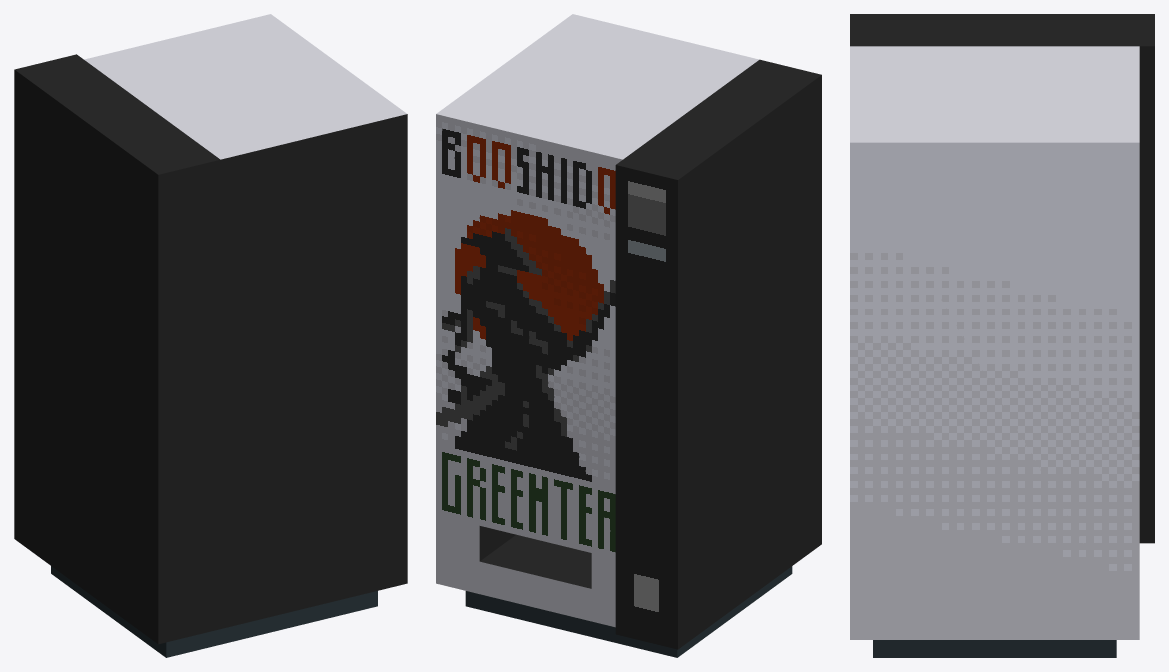
File: VendingMachine5.glb
3 views of the same model, side by side, from view 1: azimuth 30°, elevation 25°; view 2: azimuth 150°, elevation 25°; view 3: azimuth 270°, elevation 25° (orthographic). The views are drawn at different scales.
Parts seen in each view (by area): view 1: cuboid (×2); view 2: cuboid (×2); view 3: cuboid (×2).
Boxes of the visible parts, bbox=[...] form: cuboid (×2): bbox=[14, 14, 407, 657]; cuboid (×2): bbox=[436, 14, 821, 657]; cuboid (×2): bbox=[850, 14, 1154, 657].
Size of the model in its own units: 2.5 by 4.75 by 2.5.
1 material, 1 textured.
